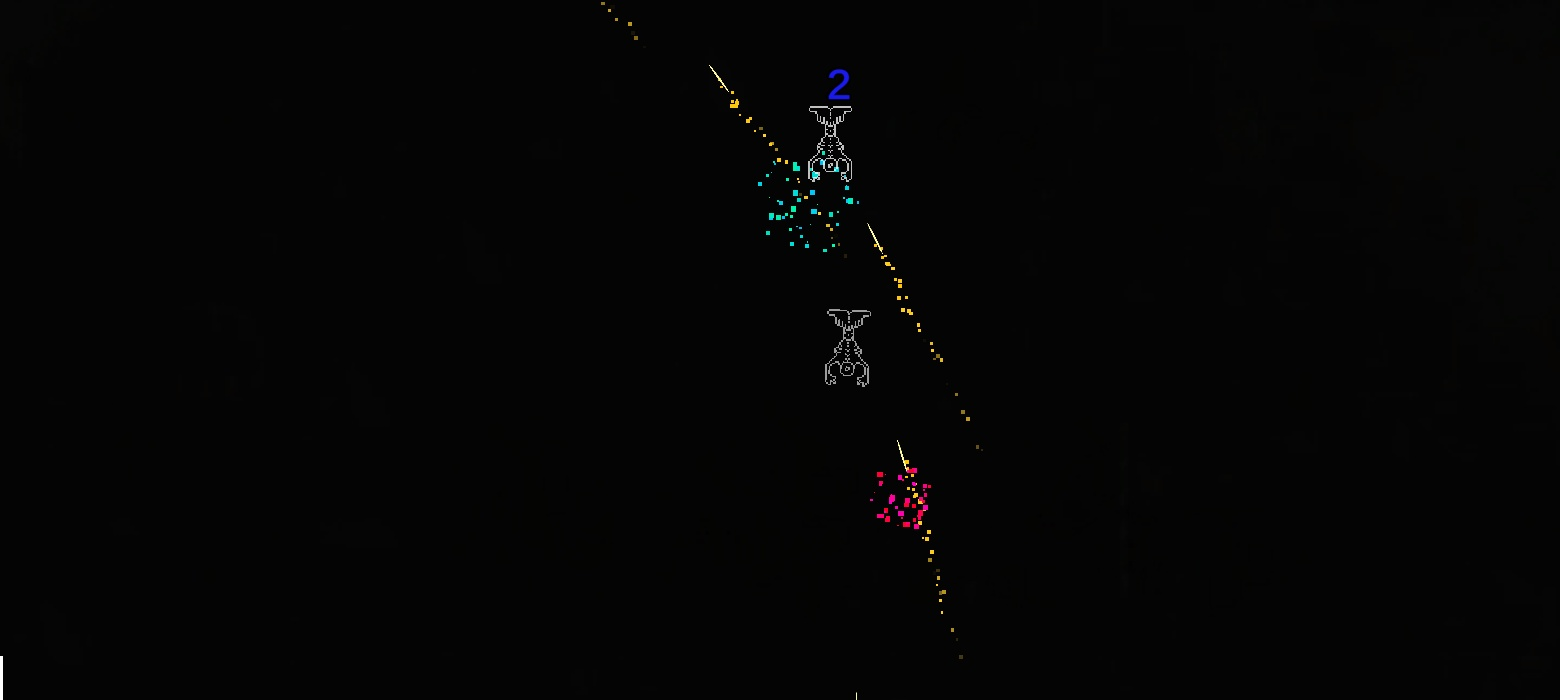enemy: (825, 308, 871, 387), (807, 105, 853, 182)
